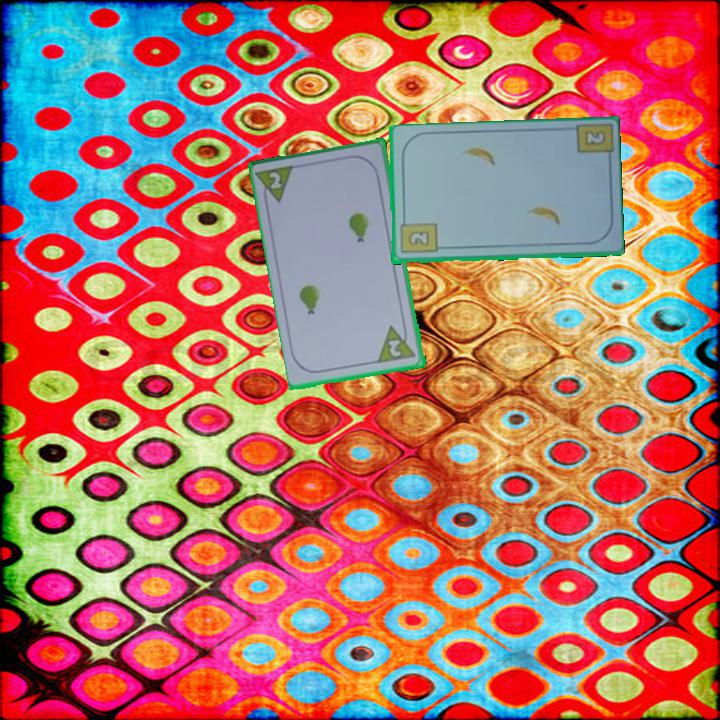2b: (396, 215, 439, 256), (581, 127, 607, 149)
2p: (254, 162, 298, 209), (385, 336, 404, 360)
